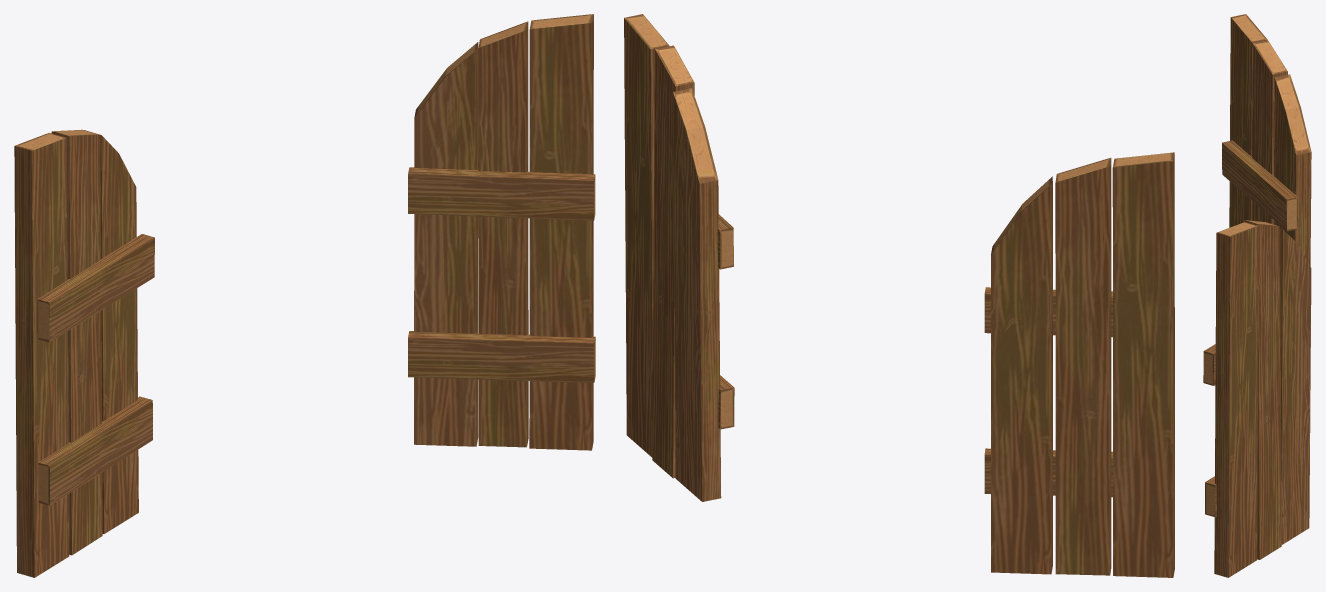
File: window-qm-windowshutterswideroundopen.glb
3 views of the same model, side by side, from view 1: azimuth 30°, elevation 25°; view 2: azimuth 150°, elevation 25°; view 3: azimuth 270°, elevation 25° (orthographic). The views are drawn at different scales.
Parts seen in each view (by area): view 1: Cube_178; view 2: Cube_178; view 3: Cube_178.
Boxes of the visible parts, bbox=[...] form: Cube_178: bbox=[14, 14, 595, 577]; Cube_178: bbox=[624, 14, 1174, 577]; Cube_178: bbox=[1203, 14, 1311, 577].
Bounding box in the file's own units: 2.3 × 1.65 × 0.4724.
Materials: 1 (1 with a texture image).
